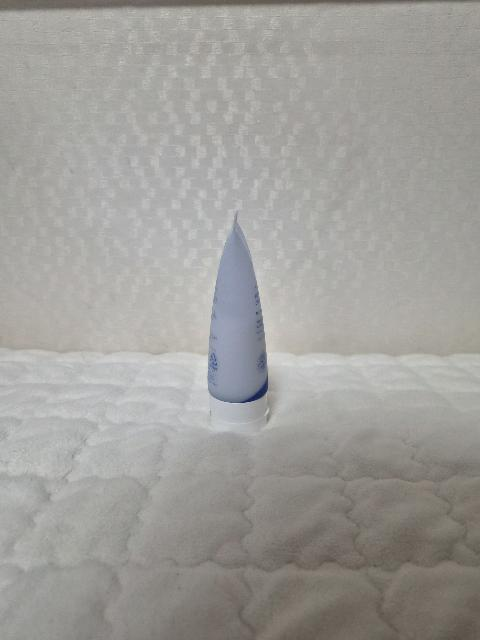handcream: (207, 210, 269, 434)
